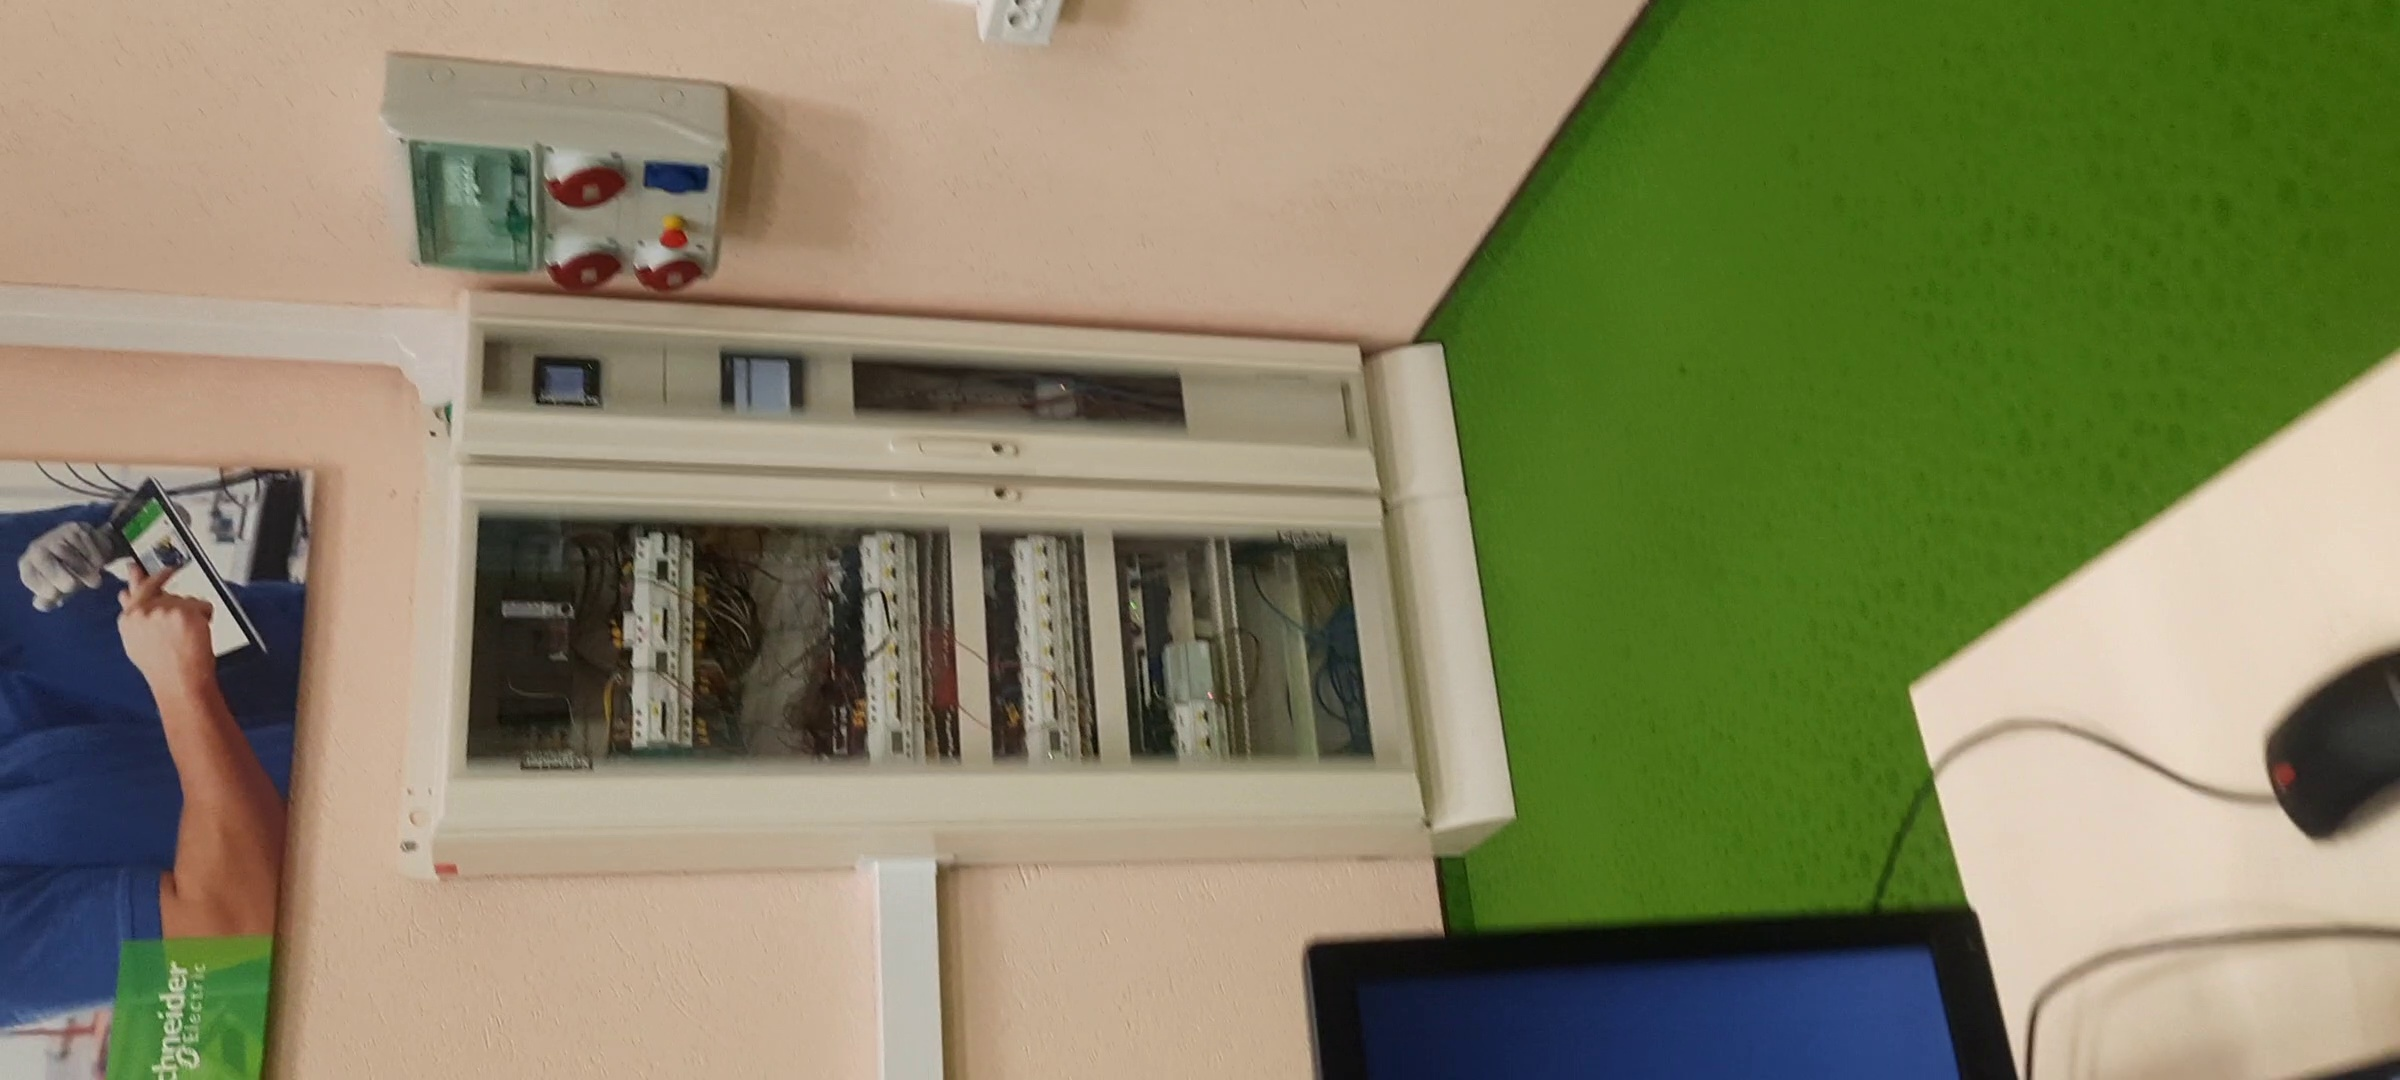stand1: (424, 298, 1511, 864)
